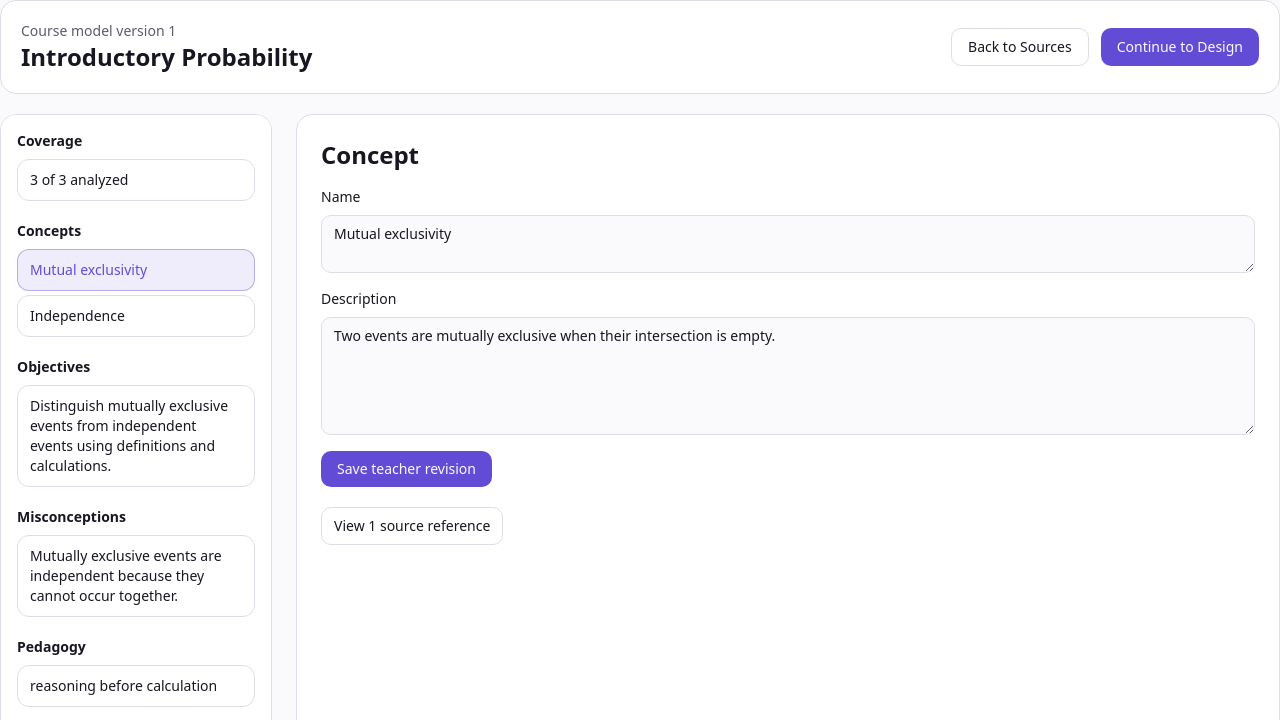
Test: CourseModelReview › loads navigable compact findings and shows source metadata without source passages
This screenshot has width=1280, height=720.
Expected: the heading "Introductory Probability" is shown, [21,41,312,73]
What coordinates should you click on to do the following:
click the button "Independence"
I would click on:
 (136, 316)
Its box is [17,295,255,337].
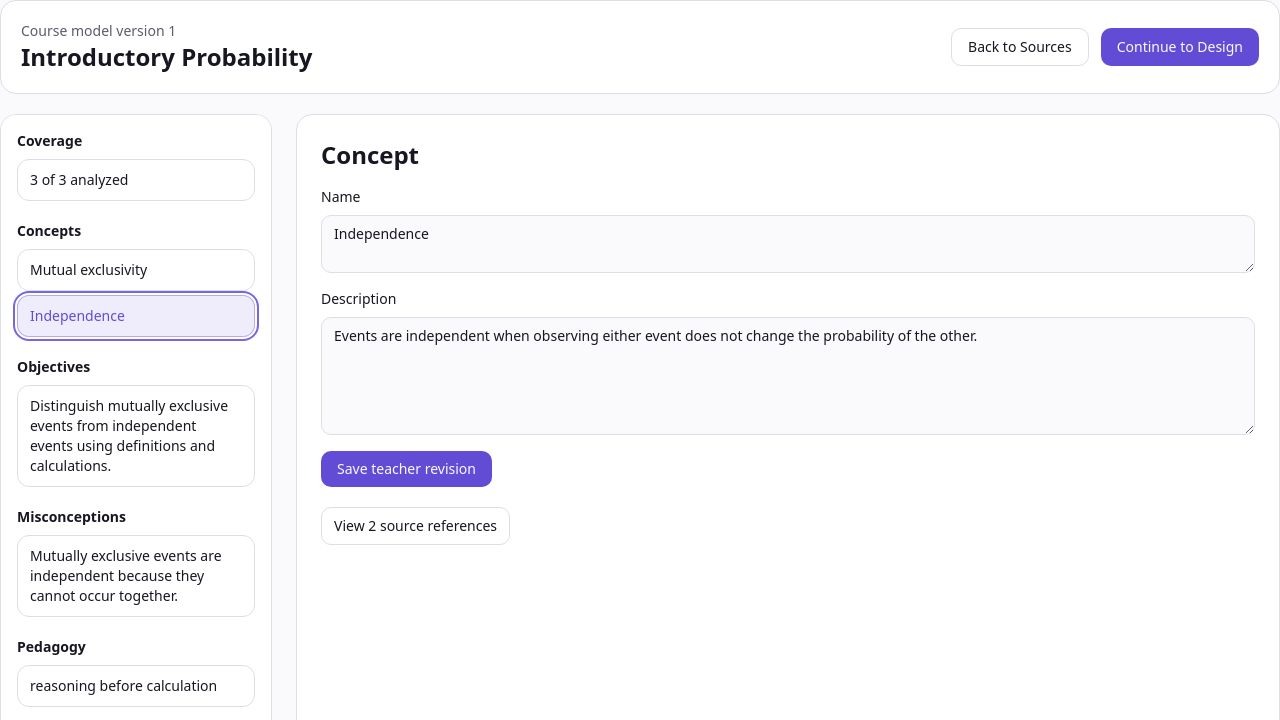
Expected: the heading "Concept" is shown, [321,138,419,171]
What coordinates should you click on to do the following:
click the button "View 2 source references"
I would click on:
 (416, 526)
Its box is [321,507,510,545].
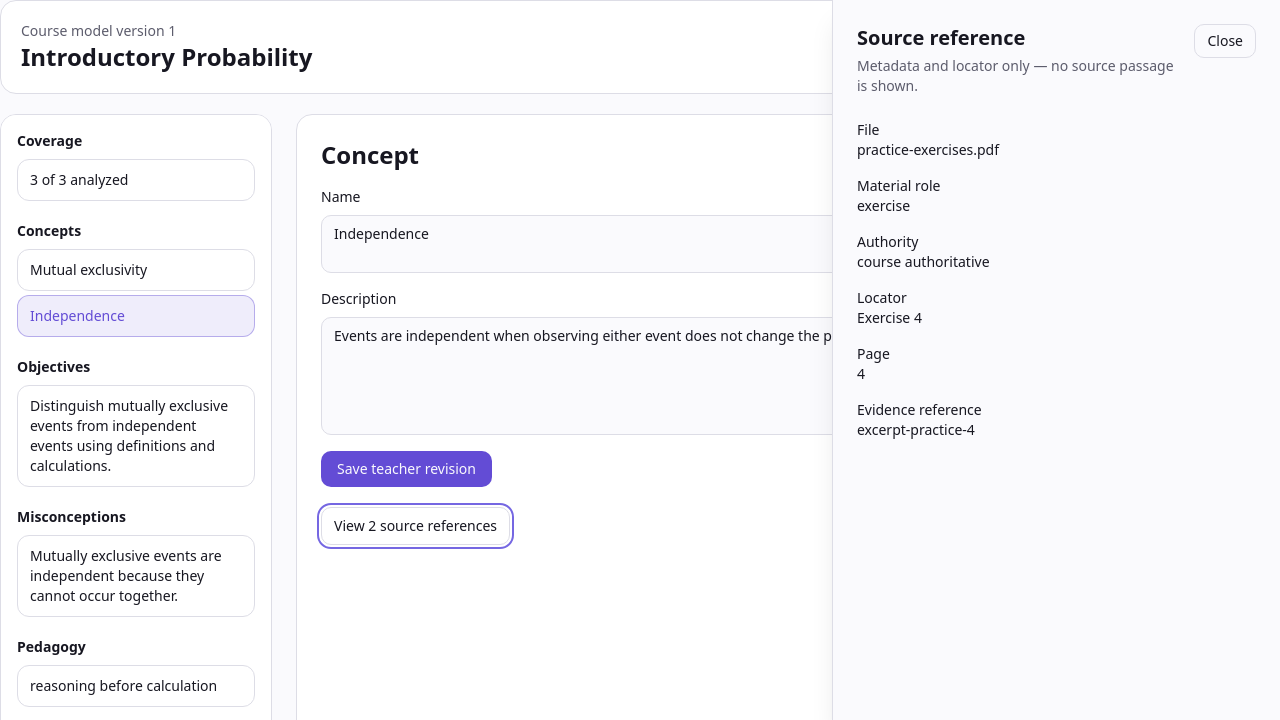
Result: the dialog "Source reference" is shown at [832,0,1279,719]
Result: the text "practice-exercises.pdf" is shown at [857,140,999,159]
Result: the text "Exercise 4" is shown at [857,308,922,327]
